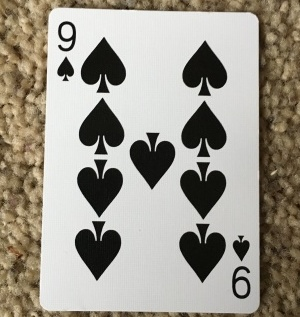card: (39, 5, 261, 312)
